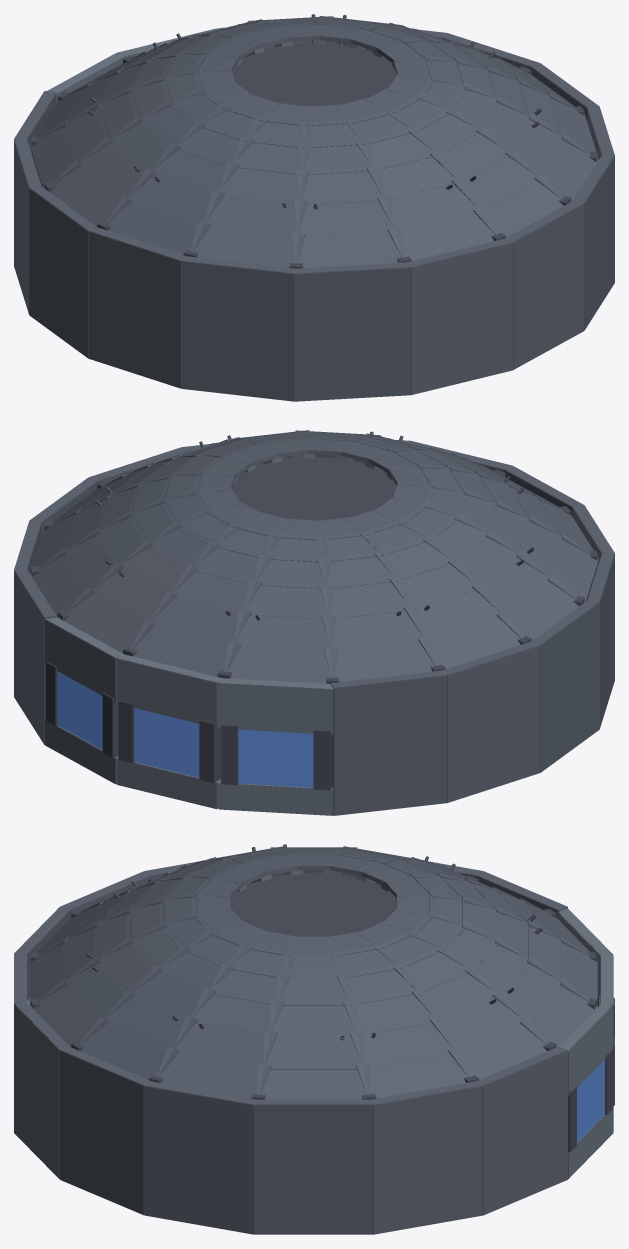
The model's file is BACKDROP.glb.
The picture shows the model from 3 angles, top to bottom: view 1: azimuth 30°, elevation 25°; view 2: azimuth 150°, elevation 25°; view 3: azimuth 270°, elevation 25°; orthographic projection.
Visible parts, largest first — view 1: BACKDROP; view 2: BACKDROP; view 3: BACKDROP.
Part boxes in pixels (x1,y1,x2,y2): BACKDROP: (14, 14, 614, 401); BACKDROP: (14, 430, 614, 815); BACKDROP: (14, 844, 614, 1234).
Size of the model in its own units: 73.2 by 27.86 by 73.35.
